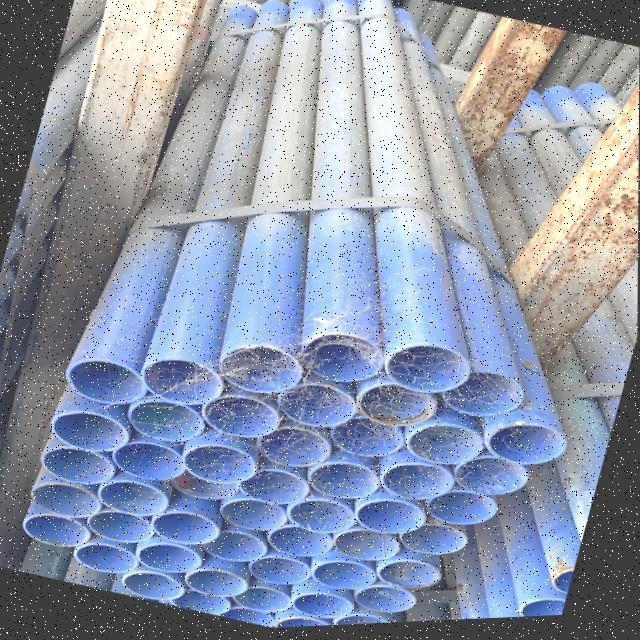pipe: (301, 333, 386, 386), (278, 375, 358, 430), (441, 371, 527, 422), (389, 345, 473, 395), (216, 348, 301, 397), (320, 419, 410, 462), (50, 409, 132, 456), (148, 358, 226, 407), (63, 359, 144, 406), (359, 382, 440, 429), (39, 443, 121, 488), (407, 420, 487, 466), (257, 425, 338, 470), (202, 392, 279, 439), (487, 423, 566, 468), (451, 457, 531, 501), (182, 441, 259, 486), (130, 397, 206, 441), (409, 494, 497, 532), (386, 520, 469, 560), (360, 492, 434, 536), (94, 480, 173, 521), (111, 440, 188, 482), (309, 461, 380, 505), (383, 462, 461, 502), (337, 526, 410, 568), (81, 509, 164, 545), (194, 530, 278, 565), (239, 471, 313, 509), (291, 498, 361, 538), (220, 497, 291, 535), (266, 527, 342, 561), (20, 513, 87, 551), (155, 511, 223, 548), (345, 585, 416, 619), (375, 560, 442, 595), (171, 470, 244, 502), (179, 569, 253, 600), (248, 555, 313, 590), (316, 560, 382, 593), (76, 541, 140, 575), (29, 485, 94, 516), (141, 543, 204, 573), (122, 571, 185, 601), (270, 604, 342, 630), (295, 592, 361, 620), (233, 586, 296, 615), (173, 588, 232, 616), (220, 604, 282, 628), (333, 616, 393, 628), (519, 607, 562, 622)
